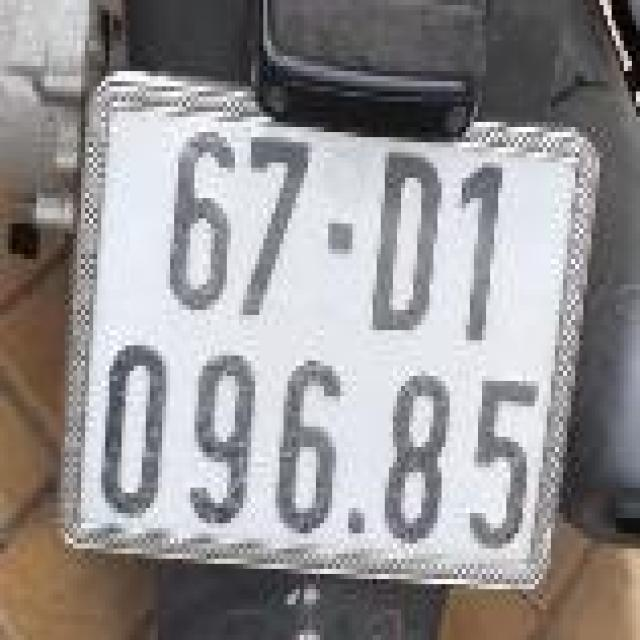0: (97, 325, 166, 533)
1: (456, 155, 512, 348)
5: (470, 355, 535, 564)
6: (270, 340, 350, 549), (162, 115, 243, 318)
7: (235, 112, 316, 320)
8: (370, 358, 456, 556)
9: (178, 335, 259, 528)
D: (360, 140, 446, 343)
